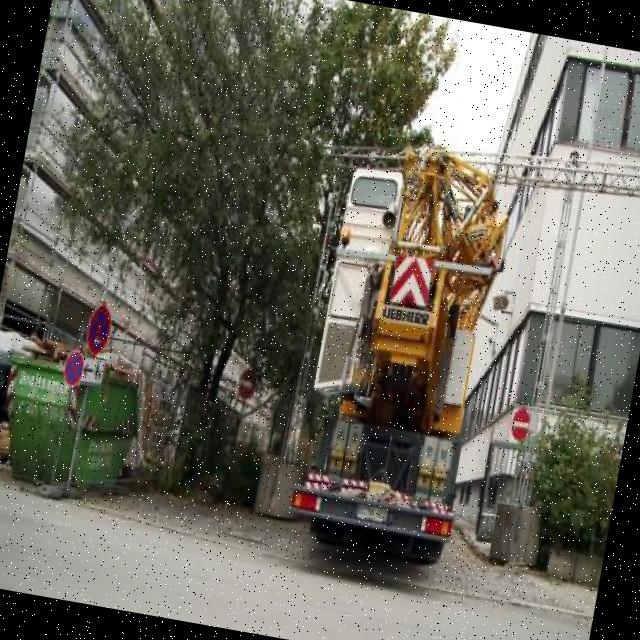Mobile Crane: (282, 134, 511, 564)
